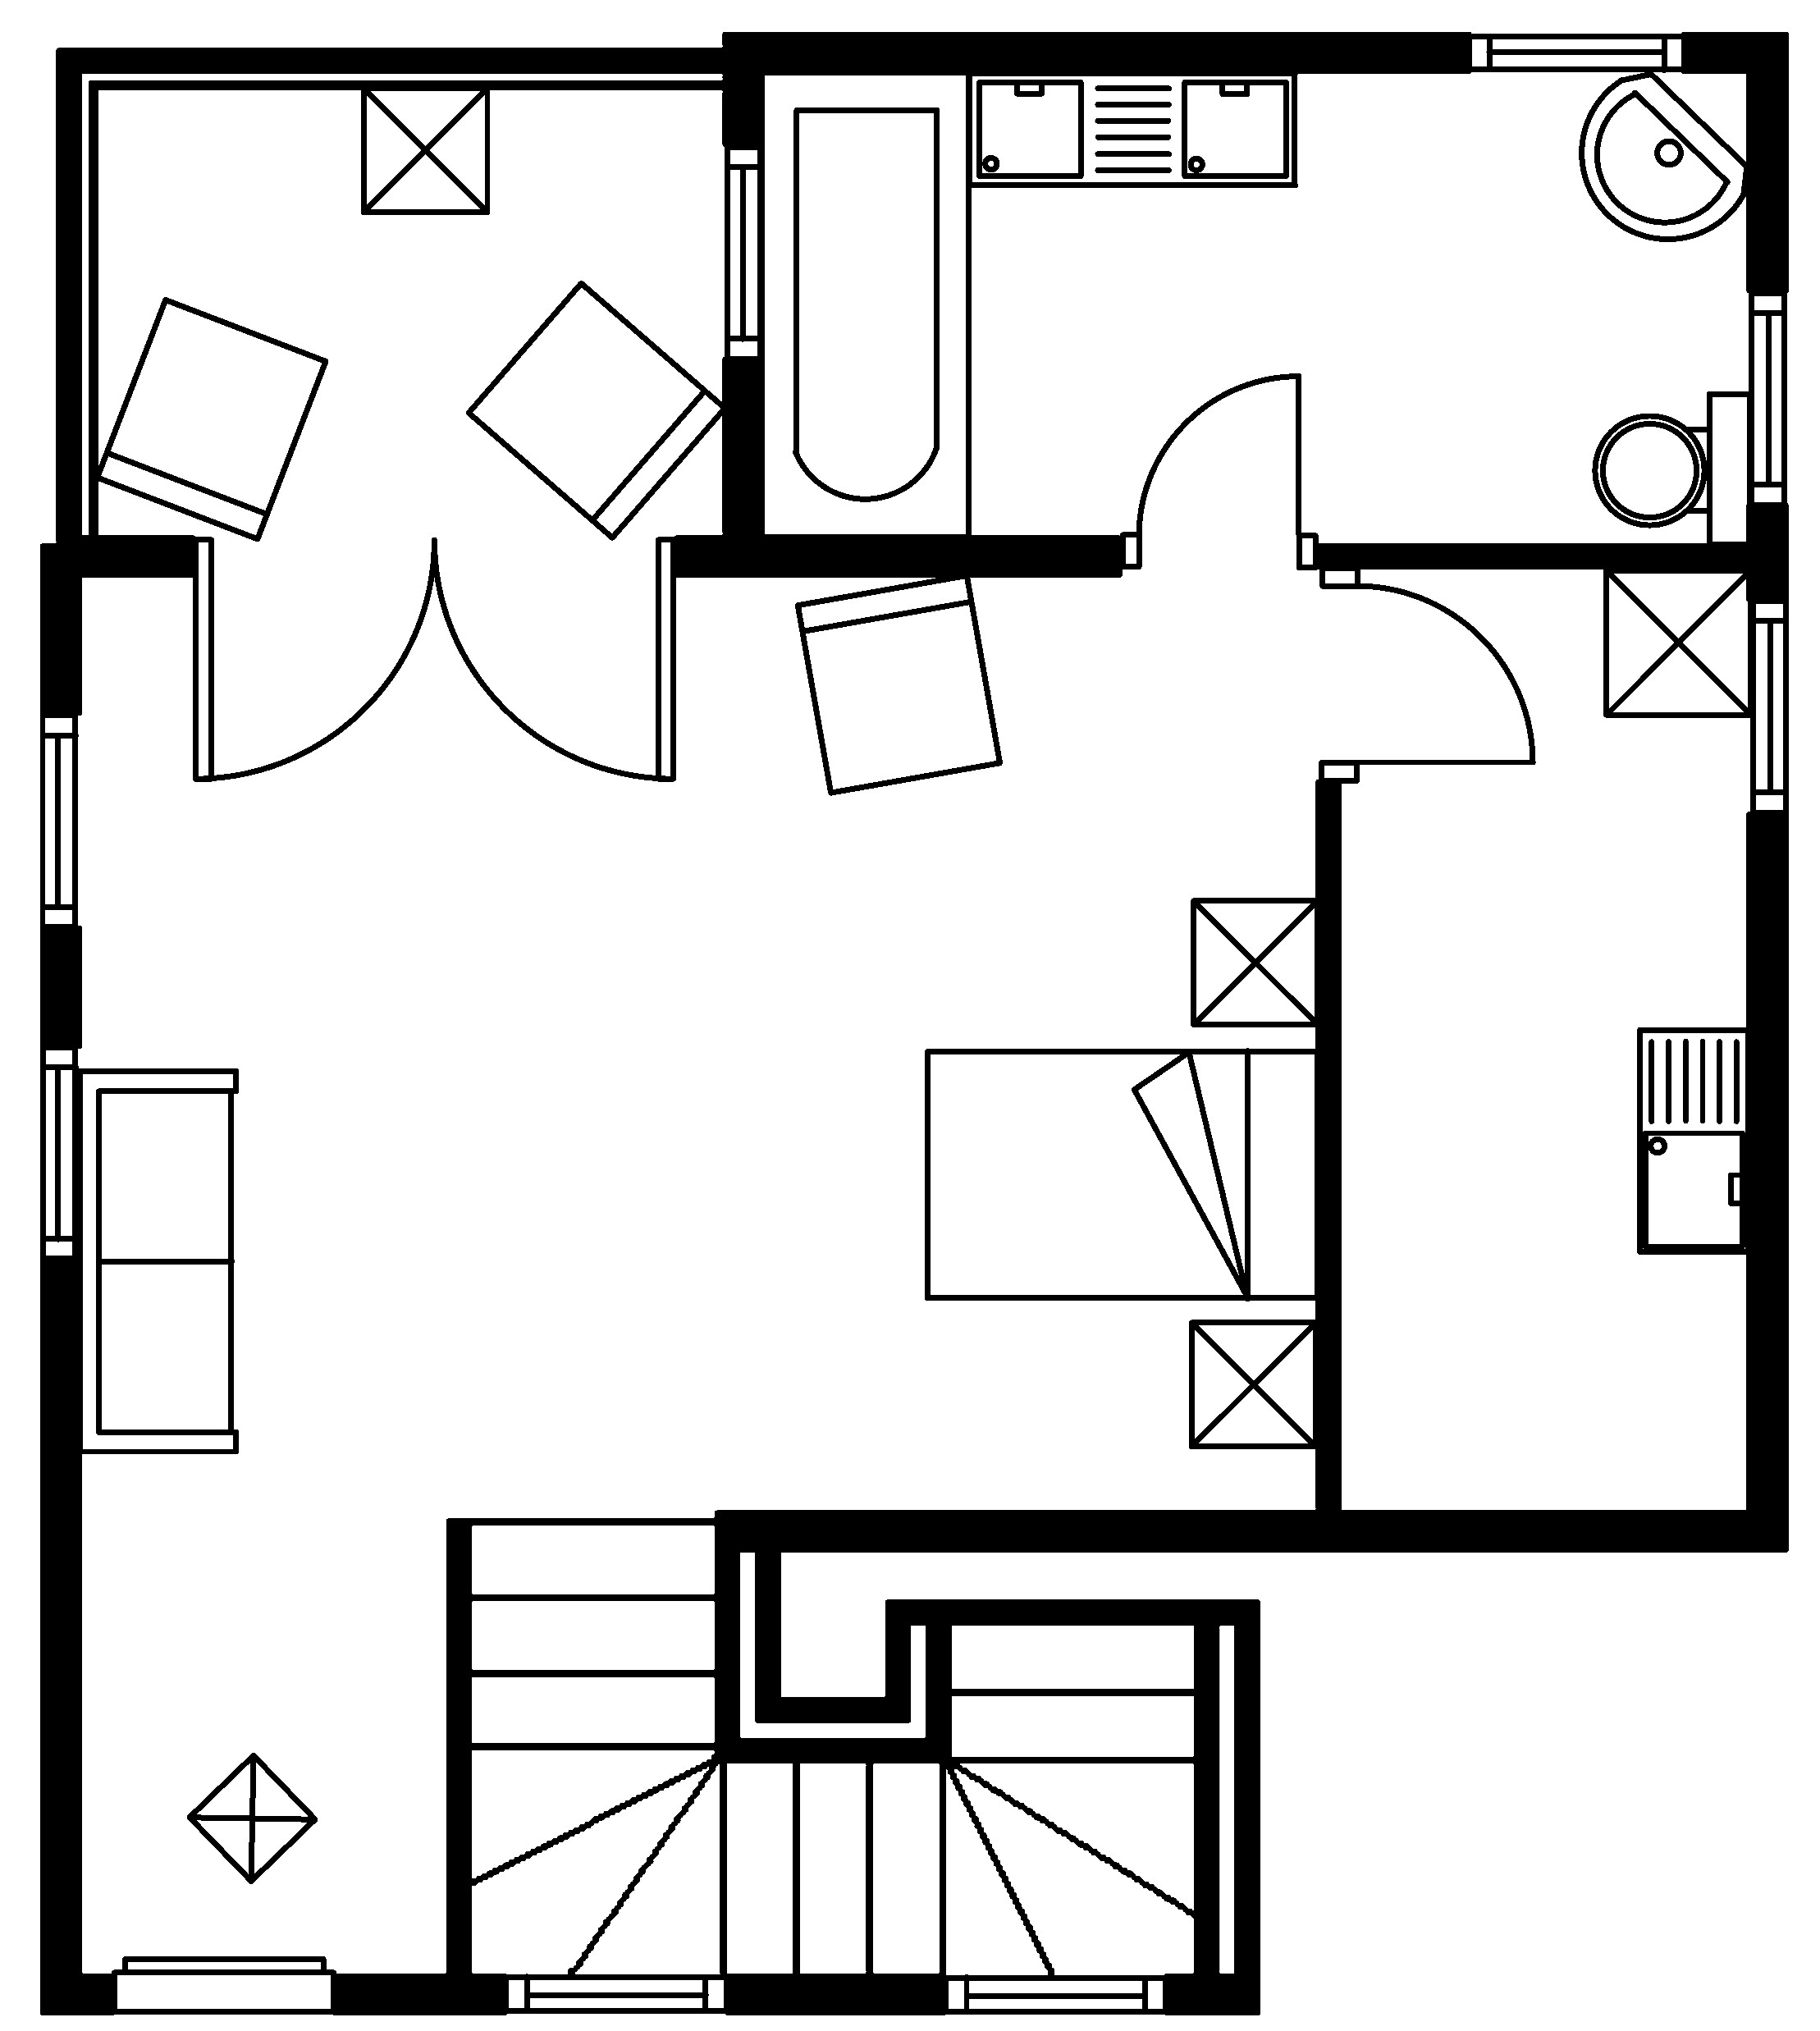bed: (922, 1047, 1321, 1302)
coffee_table: (1602, 566, 1753, 719), (184, 1752, 318, 1883), (1186, 1318, 1319, 1449), (1189, 896, 1321, 1028), (358, 84, 490, 214)
large_sink: (1592, 388, 1753, 548)
large_sofa: (76, 1066, 239, 1455)
sink: (1636, 1026, 1751, 1254)
small_sink: (1578, 70, 1750, 241)
small_sofa: (464, 279, 727, 541), (93, 295, 329, 543), (794, 571, 1003, 796)
tub: (757, 69, 971, 539)
twin_sink: (964, 69, 1298, 188)
